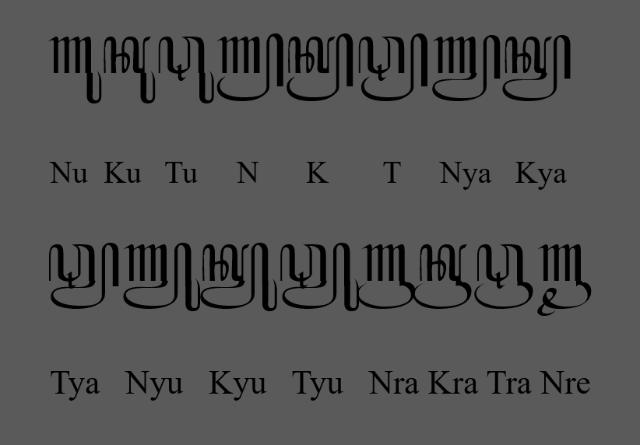-K: (286, 33, 354, 103)
-N: (216, 32, 284, 102)
-T: (358, 33, 428, 103)
Kr: (413, 244, 473, 311)
Ku: (103, 35, 157, 104)
Ky: (502, 34, 572, 102)
Kyu: (200, 242, 278, 312)
Nr: (356, 244, 416, 311)
Nre: (536, 244, 592, 318)
Nu: (47, 36, 101, 104)
Ny: (431, 35, 502, 103)
Nyu: (123, 242, 201, 312)
Tr: (474, 243, 534, 311)
Tu: (157, 35, 215, 105)
Ty: (48, 242, 119, 311)
Tyu: (278, 242, 359, 312)
